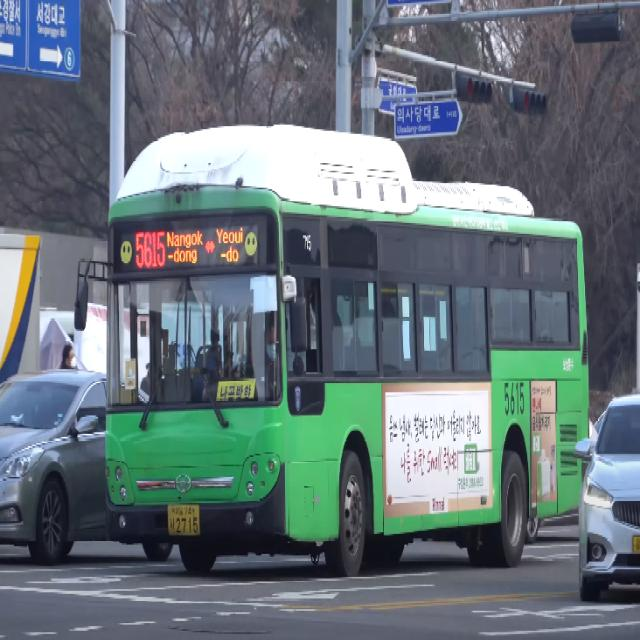bus-number: (135, 230, 166, 269)
